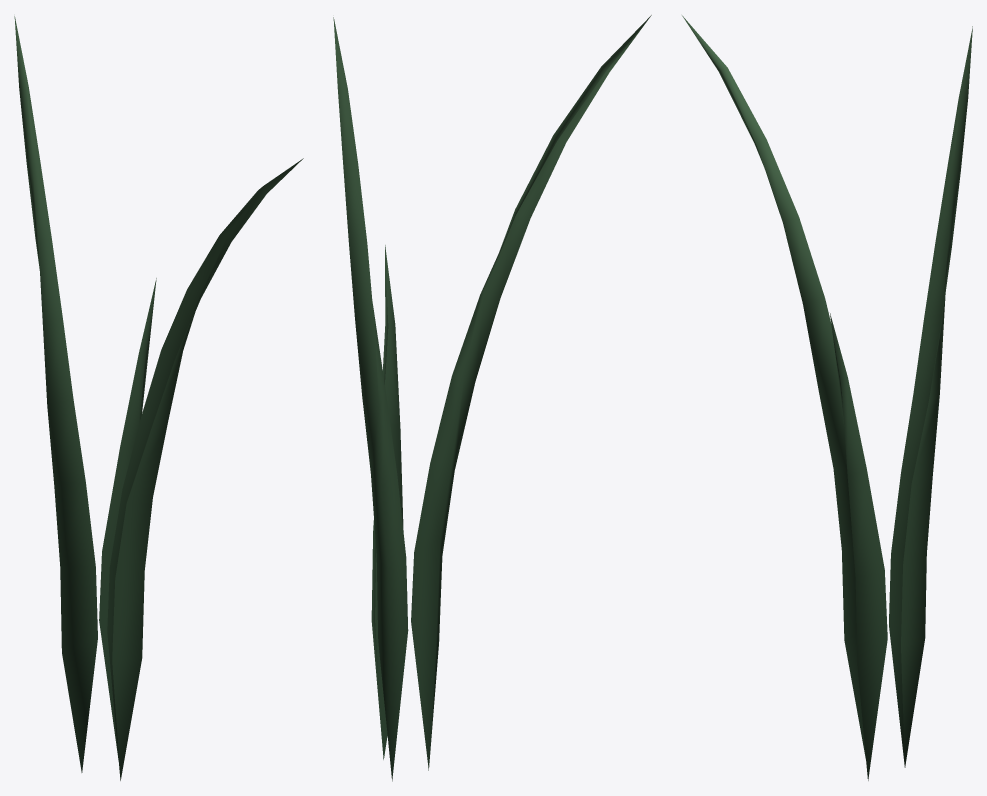
The picture shows the model from 3 angles, left to right: view 1: azimuth 90°, elevation 25°; view 2: azimuth 150°, elevation 25°; view 3: azimuth 270°, elevation 25°; orthographic projection. The views are drawn at different scales.
Visible parts, largest first — view 1: alt374.001; view 2: alt374.001; view 3: alt374.001.
Part boxes in pixels (bbox=[...]): alt374.001: bbox=[14, 16, 303, 780]; alt374.001: bbox=[333, 15, 651, 781]; alt374.001: bbox=[682, 15, 972, 780].
Bounding box in the file's own units: 0.1264 × 0.5 × 0.1753.
